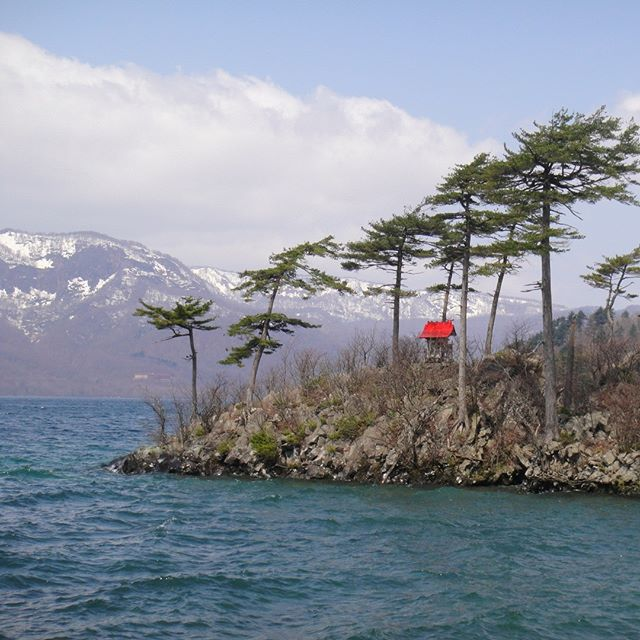mountain: (1, 207, 509, 349)
sea: (12, 411, 640, 640)
sky: (20, 1, 640, 208)
tree: (510, 117, 640, 438), (441, 134, 515, 421), (227, 228, 345, 406), (343, 212, 439, 384), (150, 299, 211, 428), (581, 238, 639, 317)
